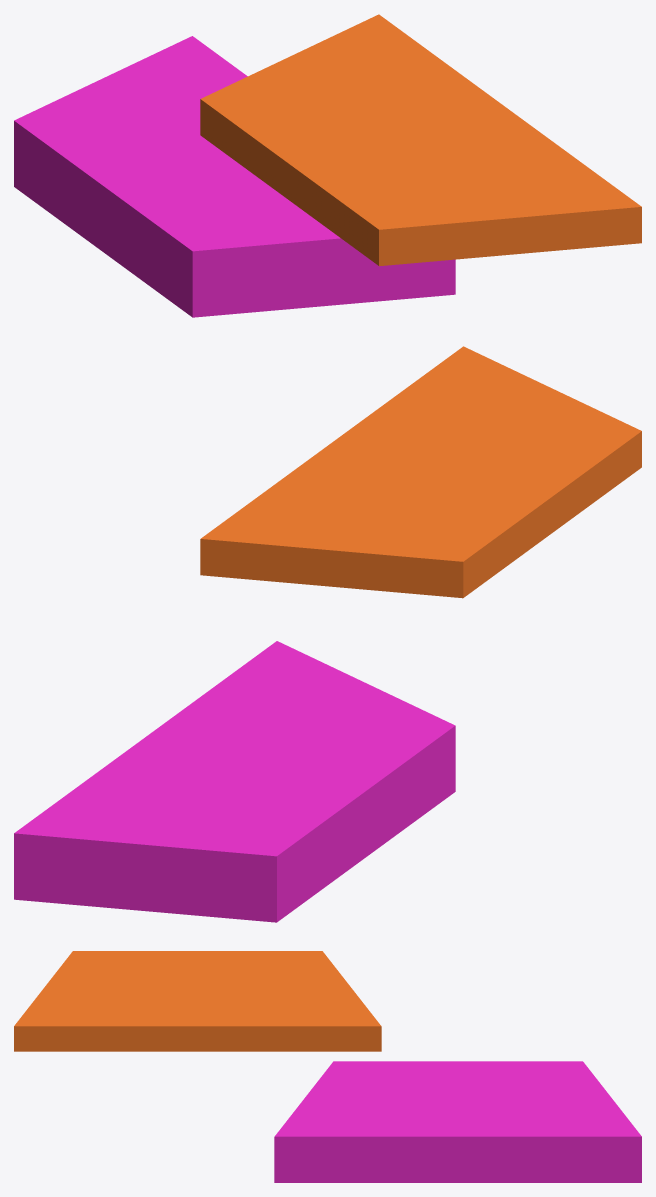
Rendered from Prateleiras.glb.
3 views of the same model, one above another, from view 1: azimuth 30°, elevation 25°; view 2: azimuth 150°, elevation 25°; view 3: azimuth 270°, elevation 25° (orthographic). The views are drawn at different scales.
Parts seen in each view (by area): view 1: Cube.020, Cube.019; view 2: Cube.019, Cube.020; view 3: Cube.019, Cube.020.
Boxes of the visible parts, x1,y1,x2,y2 form: Cube.020: (200, 14, 641, 266); Cube.019: (14, 36, 455, 317); Cube.019: (14, 641, 455, 922); Cube.020: (200, 346, 641, 598); Cube.019: (274, 1061, 641, 1182); Cube.020: (14, 951, 381, 1051).
Bounding box in the file's own units: 0.3207 × 0.3115 × 1.13.
1 material, 1 textured.
